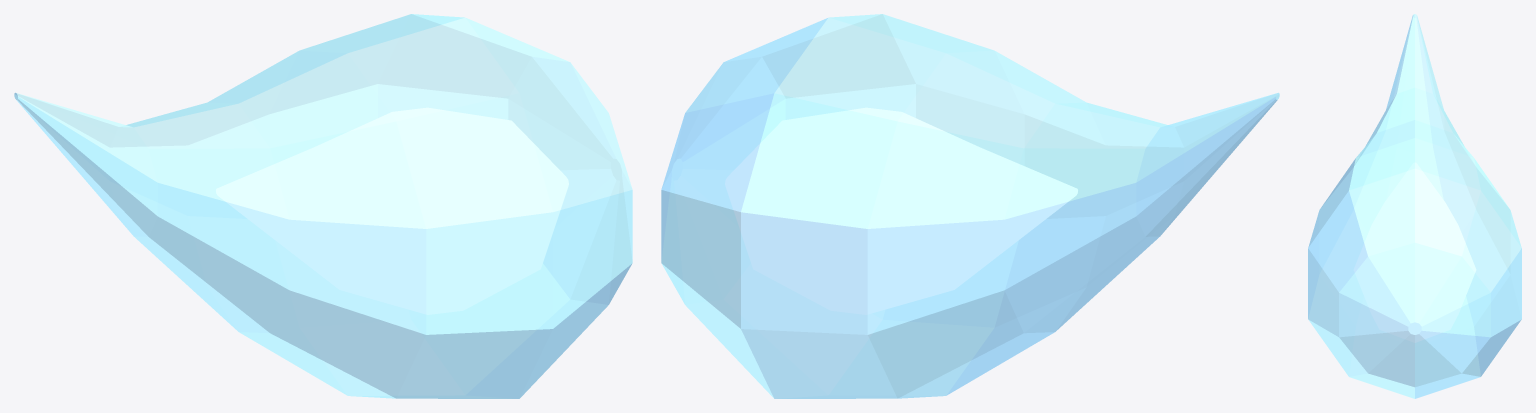
The model's file is wisp.glb.
3 renders of one model, left to right at view 1: azimuth 30°, elevation 25°; view 2: azimuth 150°, elevation 25°; view 3: azimuth 270°, elevation 25°, orthographic. The views are drawn at different scales.
Parts seen in each view (by area): view 1: WispShell, WispCore; view 2: WispShell, WispCore; view 3: WispShell, WispCore.
Part boxes in pixels (bbox=[...]): WispShell: bbox=[14, 14, 632, 398]; WispCore: bbox=[216, 108, 568, 314]; WispShell: bbox=[661, 14, 1279, 398]; WispCore: bbox=[725, 108, 1077, 314]; WispShell: bbox=[1308, 14, 1521, 398]; WispCore: bbox=[1354, 162, 1475, 342].
Bounding box in the file's own units: 7.15 × 4.69 × 3.61.
